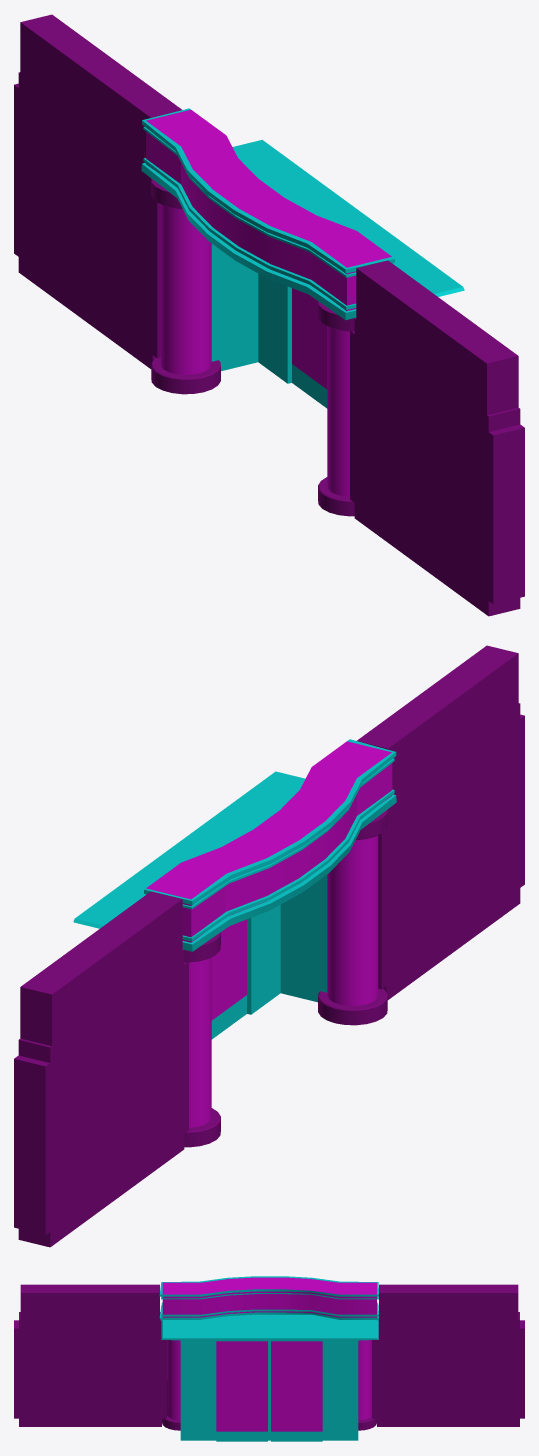
The model's file is WW_CinemaRoom_Env_02.fbx.
The picture shows the model from 3 angles, top to bottom: view 1: azimuth 30°, elevation 25°; view 2: azimuth 150°, elevation 25°; view 3: azimuth 270°, elevation 25°; orthographic projection. The views are drawn at different scales.
Parts seen in each view (by area): view 1: WW_CinemaCorrodorWall_02, WW_CinemaCorrodorWall_01, CinemaRoomTop_geo_01, CinemaRoomPillar_geo_02, Doortrim_geo_02, CinemaRoomPillar_geo_01, Door_geo_01; view 2: WW_CinemaCorrodorWall_01, WW_CinemaCorrodorWall_02, CinemaRoomTop_geo_01, CinemaRoomPillar_geo_01, Doortrim_geo_02, CinemaRoomPillar_geo_02, Door_geo_01; view 3: WW_CinemaCorrodorWall_02, WW_CinemaCorrodorWall_01, CinemaRoomTop_geo_01, Door_geo_01 (×2), Doortrim_geo_02, CinemaRoomPillar_geo_02, CinemaRoomPillar_geo_01.
Boxes of the visible parts, <box> form: WW_CinemaCorrodorWall_02: <box>350,260,524,616</box>; WW_CinemaCorrodorWall_01: <box>14,14,181,368</box>; CinemaRoomTop_geo_01: <box>141,108,464,320</box>; CinemaRoomPillar_geo_02: <box>151,178,220,394</box>; Doortrim_geo_02: <box>211,244,291,383</box>; CinemaRoomPillar_geo_01: <box>318,301,355,516</box>; Door_geo_01: <box>292,288,327,408</box>; WW_CinemaCorrodorWall_01: <box>14,891,188,1247</box>; WW_CinemaCorrodorWall_02: <box>357,645,524,999</box>; CinemaRoomTop_geo_01: <box>73,739,396,951</box>; CinemaRoomPillar_geo_01: <box>318,809,387,1025</box>; Doortrim_geo_02: <box>247,875,327,1014</box>; CinemaRoomPillar_geo_02: <box>184,932,220,1147</box>; Door_geo_01: <box>211,919,246,1039</box>; WW_CinemaCorrodorWall_02: <box>14,1284,166,1426</box>; WW_CinemaCorrodorWall_01: <box>372,1284,524,1426</box>; CinemaRoomTop_geo_01: <box>159,1276,378,1341</box>; Door_geo_01 (×2): <box>216,1341,322,1441</box>; Doortrim_geo_02: <box>180,1340,358,1440</box>; CinemaRoomPillar_geo_02: <box>358,1340,376,1430</box>; CinemaRoomPillar_geo_01: <box>162,1340,180,1430</box>.
Bounding box in the file's own units: 196 × 333 × 1149.
